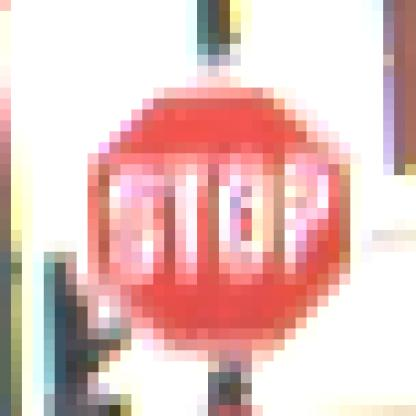Stop: (82, 81, 356, 351)
